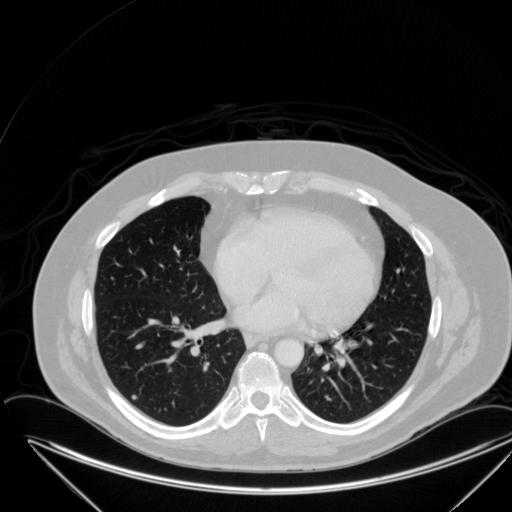nodule: (129, 392, 139, 402)
